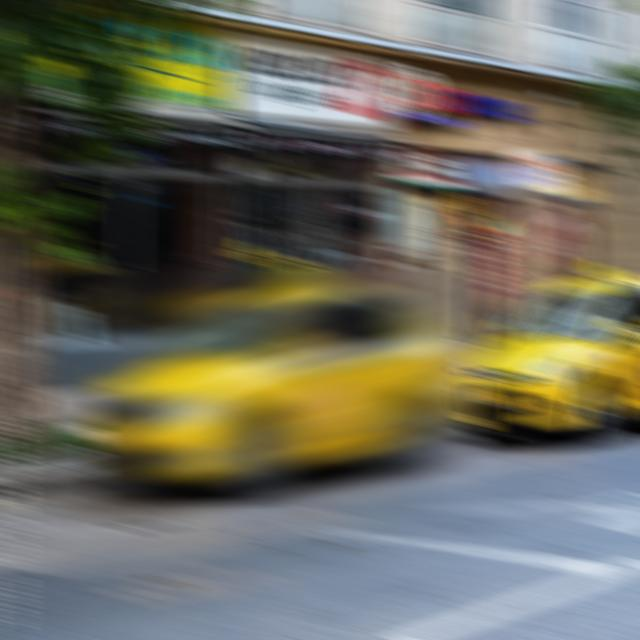Taxi: (90, 265, 472, 503)
